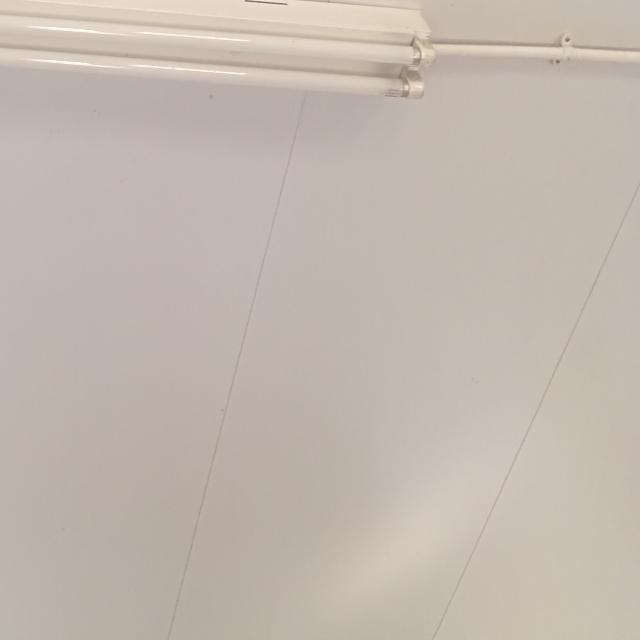fluorescent tube: (0, 0, 440, 138)
